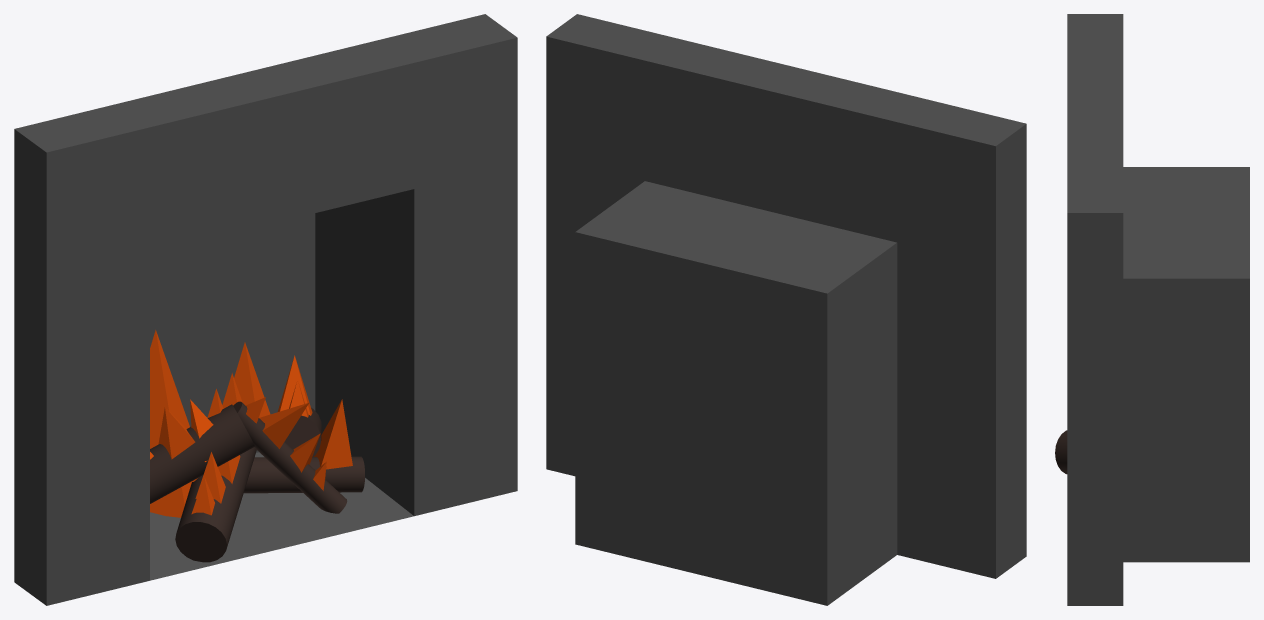
Rendered from fireplace.fbx.
3 views of the same model, side by side, from view 1: azimuth 30°, elevation 25°; view 2: azimuth 150°, elevation 25°; view 3: azimuth 270°, elevation 25° (orthographic). The views are drawn at different scales.
Parts seen in each view (by area): view 1: pCube19, pCylinder2, pCylinder1, pPyramid16, pCylinder4, pCylinder3, pPyramid15, pPyramid17, pPyramid13, pPyramid9, pCylinder5, pPyramid6 (+1 smaller); view 2: pCube19; view 3: pCube19, pCylinder1.
Part boxes in pixels (bbox=[...]): pCube19: bbox=[14, 14, 517, 605]; pCylinder2: bbox=[150, 404, 254, 503]; pCylinder1: bbox=[175, 447, 256, 562]; pPyramid16: bbox=[150, 330, 191, 517]; pCylinder4: bbox=[233, 401, 347, 513]; pCylinder3: bbox=[244, 456, 364, 493]; pPyramid15: bbox=[314, 399, 352, 469]; pPyramid17: bbox=[234, 342, 270, 417]; pPyramid13: bbox=[259, 402, 309, 448]; pPyramid9: bbox=[158, 407, 195, 459]; pCylinder5: bbox=[284, 407, 321, 457]; pPyramid6: bbox=[277, 355, 312, 415]; pCube19: bbox=[546, 14, 1026, 605]; pCube19: bbox=[1067, 14, 1249, 605]; pCylinder1: bbox=[1055, 430, 1067, 474].
Bounding box in the file's own units: 16.65 × 15.39 × 6.89.
